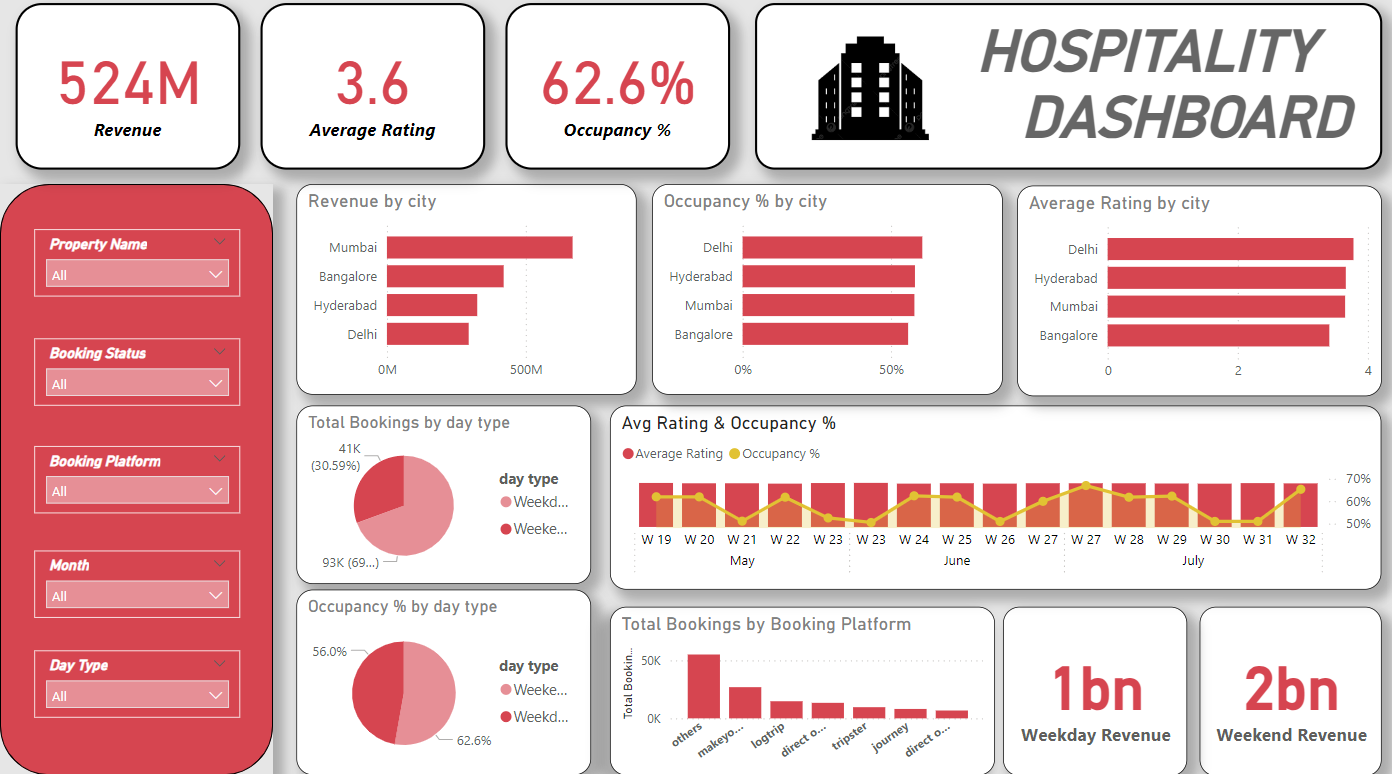

This screenshot's page, from the dashboard's own definition file:
{"tool":"powerbi","page":{"name":"Page 1","canvas":[1280,720],"ordinal":0},"visuals":[{"type":"shape","box":[0,178.6,250,541.4],"z":0},{"type":"card","fields":{"Values":["key_measures.Revenue"]},"box":[1098.3,565,166.7,155],"z":1000},{"type":"barChart","fields":{"Y":["key_measures.Revenue"],"Category":["dim_hotels.city"]},"box":[271.4,178.6,311.4,192.9],"z":2000},{"type":"pieChart","fields":{"Category":["dim_date.day type"],"Y":["key_measures.Total Bookings"]},"box":[271.2,381.2,270,163.8],"z":3000},{"type":"card","fields":{"Values":["key_measures.Revenue"]},"box":[918.3,565,168.3,155],"z":4000},{"type":"card","fields":{"Values":["key_measures.Revenue"]},"box":[14.3,12.9,205.7,152.9],"z":5000},{"type":"pieChart","fields":{"Category":["dim_date.day type"],"Y":["key_measures.Occupancy %"]},"box":[271.2,550,270,170],"z":6000},{"type":"clusteredColumnChart","title":"Total Bookings by Booking Platform","fields":{"Y":["key_measures.Total Bookings"],"Category":["fact_bookings.booking_platform"]},"box":[558.6,565.7,352.9,154.3],"z":7000},{"type":"lineStackedColumnComboChart","title":"Avg Rating & Occupancy % ","fields":{"Category":["dim_date.mmm yy.Variation.Date Hierarchy.Month","dim_date.week no"],"Y":["key_measures.Average Rating"],"Y2":["key_measures.Occupancy %"]},"box":[558.8,381.2,706.2,168.8],"z":8000},{"type":"slicer","fields":{"Values":["dim_hotels.property_name"]},"box":[31.4,220,188.6,61.4],"z":9000},{"type":"slicer","fields":{"Values":["fact_bookings.booking_status"]},"box":[31.4,320,188.6,61.4],"z":10000},{"type":"slicer","fields":{"Values":["fact_bookings.booking_platform"]},"box":[31.4,418.6,188.6,61.4],"z":11000},{"type":"slicer","fields":{"Values":["dim_date.mmm yy.Variation.Date Hierarchy.Month"]},"box":[31.4,514.3,188.6,61.4],"z":12000},{"type":"slicer","fields":{"Values":["dim_date.day type"]},"box":[31.4,605.7,188.6,61.4],"z":13000},{"type":"card","fields":{"Values":["key_measures.Average Rating"]},"box":[238.6,12.9,205.7,152.9],"z":14000},{"type":"card","fields":{"Values":["key_measures.Occupancy %"]},"box":[462.9,12.9,205.7,152.9],"z":15000},{"type":"textbox","box":[691.4,12.9,574.3,152.9],"z":16000},{"type":"image","box":[648.6,14.3,297.1,152.9],"z":17000},{"type":"barChart","fields":{"Y":["key_measures.Occupancy %"],"Category":["dim_hotels.city"]},"box":[597.1,178.6,321.4,192.9],"z":18000},{"type":"barChart","fields":{"Y":["key_measures.Average Rating"],"Category":["dim_hotels.city"]},"box":[931.4,180,334.3,192.9],"z":19000}]}

Visuals, with their boxes in screenshot pixels (x1, y1, x2, y2), scaled from the page's 1280x720 canvas onto the 1392x774 screenshot:
shape: x1=0 y1=192 x2=272 y2=773
card - key_measures.Revenue: x1=1194 y1=607 x2=1376 y2=773
barChart - key_measures.Revenue x dim_hotels.city: x1=295 y1=192 x2=634 y2=399
pieChart - dim_date.day type x key_measures.Total Bookings: x1=295 y1=410 x2=589 y2=586
card - key_measures.Revenue: x1=999 y1=607 x2=1182 y2=773
card - key_measures.Revenue: x1=16 y1=14 x2=239 y2=178
pieChart - dim_date.day type x key_measures.Occupancy %: x1=295 y1=591 x2=589 y2=773
"Total Bookings by Booking Platform" clusteredColumnChart: x1=607 y1=608 x2=991 y2=773
"Avg Rating & Occupancy % " lineStackedColumnComboChart: x1=608 y1=410 x2=1376 y2=591
slicer - dim_hotels.property_name: x1=34 y1=236 x2=239 y2=303
slicer - fact_bookings.booking_status: x1=34 y1=344 x2=239 y2=410
slicer - fact_bookings.booking_platform: x1=34 y1=450 x2=239 y2=516
slicer - dim_date.mmm yy.Variation.Date Hierarchy.Month: x1=34 y1=553 x2=239 y2=619
slicer - dim_date.day type: x1=34 y1=651 x2=239 y2=717
card - key_measures.Average Rating: x1=259 y1=14 x2=483 y2=178
card - key_measures.Occupancy %: x1=503 y1=14 x2=727 y2=178
textbox: x1=752 y1=14 x2=1376 y2=178
image: x1=705 y1=15 x2=1028 y2=180
barChart - key_measures.Occupancy % x dim_hotels.city: x1=649 y1=192 x2=999 y2=399
barChart - key_measures.Average Rating x dim_hotels.city: x1=1013 y1=194 x2=1376 y2=401
